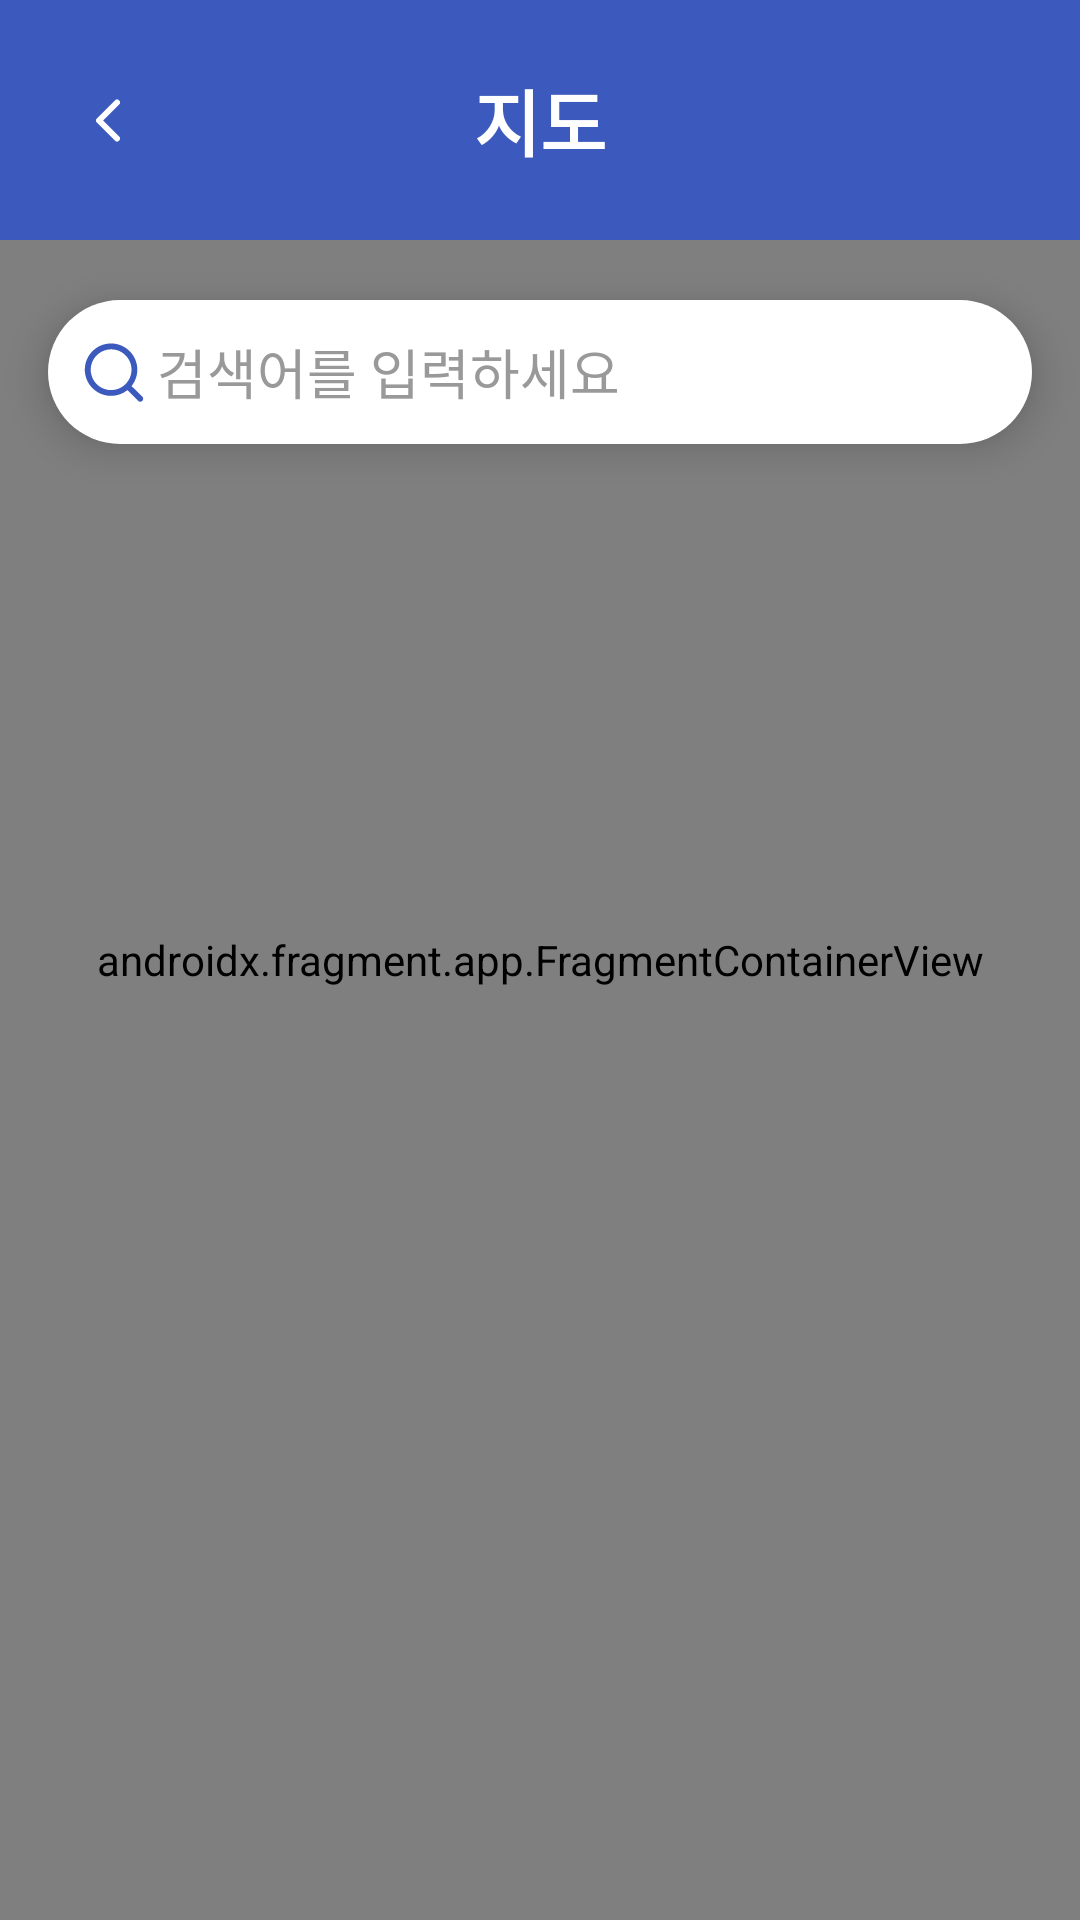

Screen size 1080×1920. Icon name, then its box in pixels as (x1, y1, x2, y2):
검색 아이콘: (84, 343, 144, 402)
뒤로가기: (96, 99, 120, 142)
